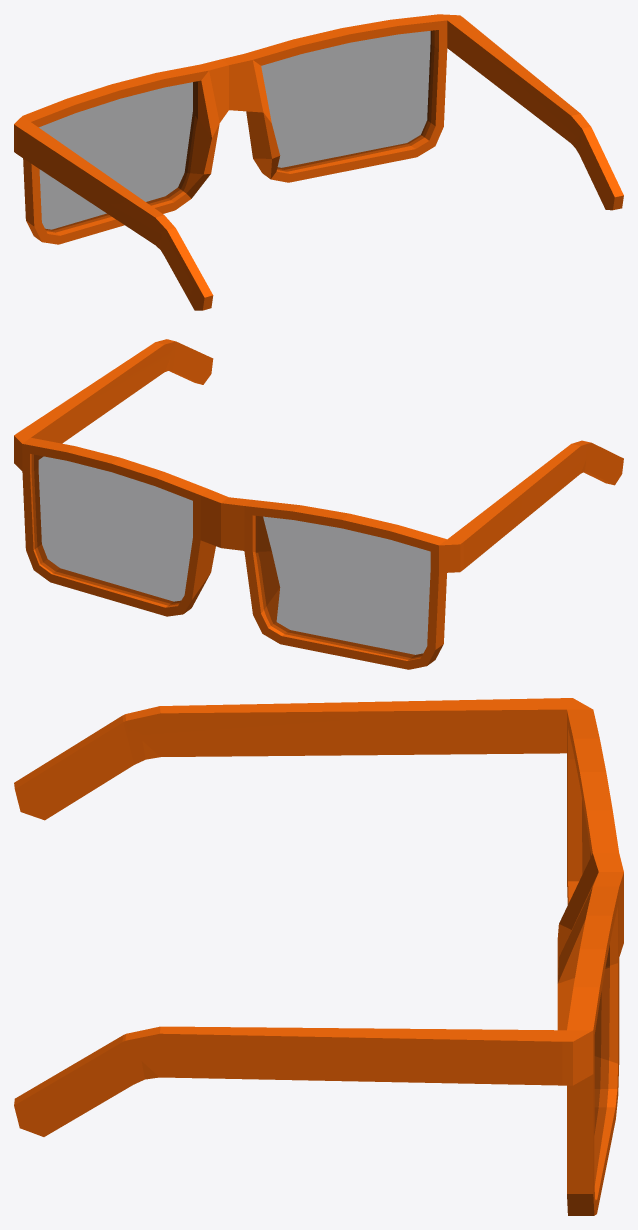
The model's file is gafasnaranjas.fbx.
The picture shows the model from 3 angles, top to bottom: view 1: azimuth 30°, elevation 25°; view 2: azimuth 150°, elevation 25°; view 3: azimuth 270°, elevation 25°; orthographic projection. The views are drawn at different scales.
Visible parts, largest first — view 1: Sunglasses_Cube.001; view 2: Sunglasses_Cube.001; view 3: Sunglasses_Cube.001.
Boxes of the visible parts, x1,y1,x2,y2 form: Sunglasses_Cube.001: (14,14,623,310); Sunglasses_Cube.001: (14,339,623,669); Sunglasses_Cube.001: (14,698,623,1215).
Bounding box in the file's own units: 80.79 × 23.61 × 60.61.
